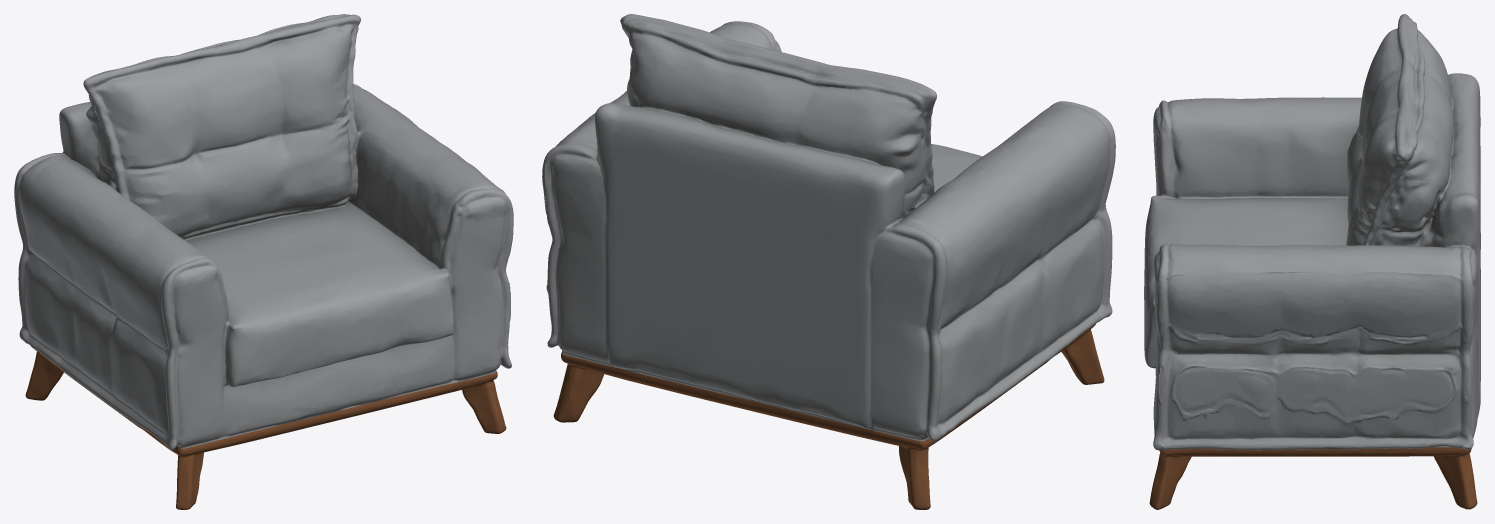
File: perola-095.glb
3 views of the same model, side by side, from view 1: azimuth 30°, elevation 25°; view 2: azimuth 150°, elevation 25°; view 3: azimuth 270°, elevation 25° (orthographic). The views are drawn at different scales.
Parts seen in each view (by area): view 1: Sofa; view 2: Sofa; view 3: Sofa.
Boxes of the visible parts, x1=… form: Sofa: x1=14, y1=14, x2=513, y2=509; Sofa: x1=542, y1=14, x2=1115, y2=509; Sofa: x1=1144, y1=14, x2=1480, y2=509.
Size of the model in its own units: 0.95 by 0.86 by 0.75.
